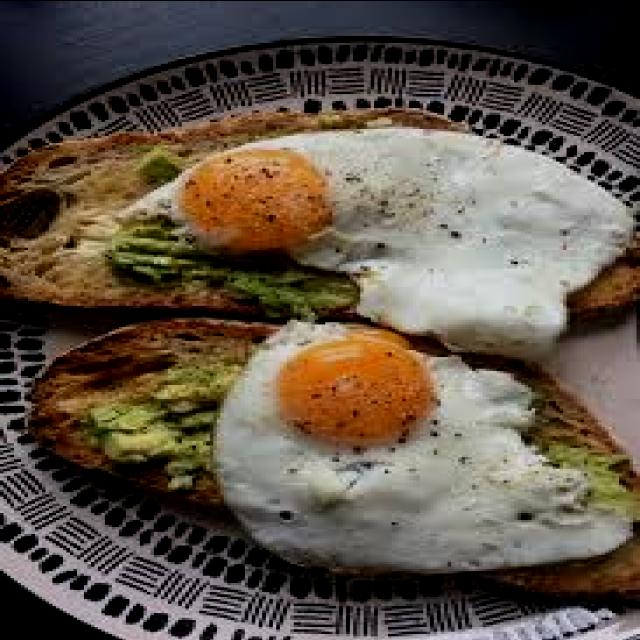telur ceplok: (140, 114, 637, 349), (213, 319, 626, 573)
